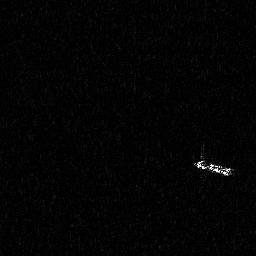ship: (193, 144, 235, 178)
